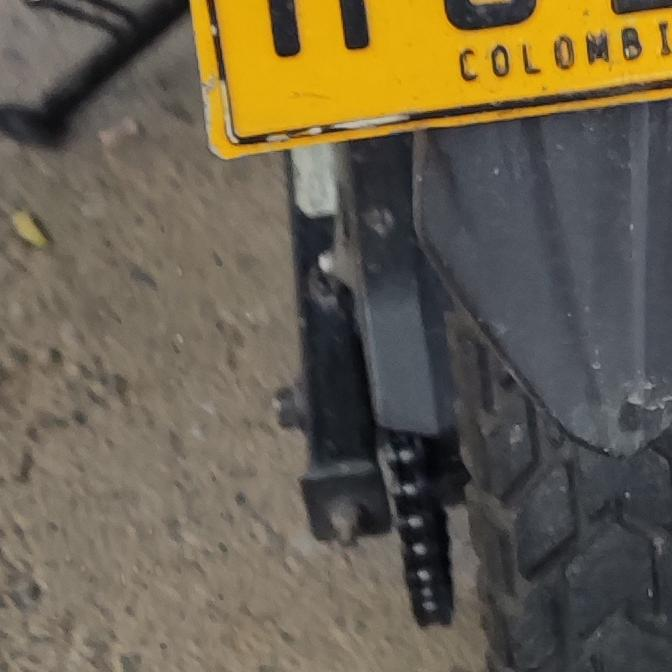plates: (194, 0, 672, 167)
